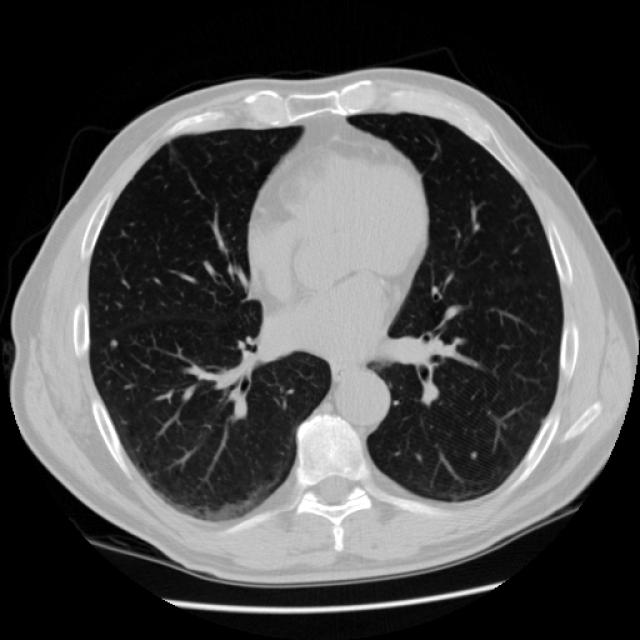nodule: (464, 445, 481, 463)
